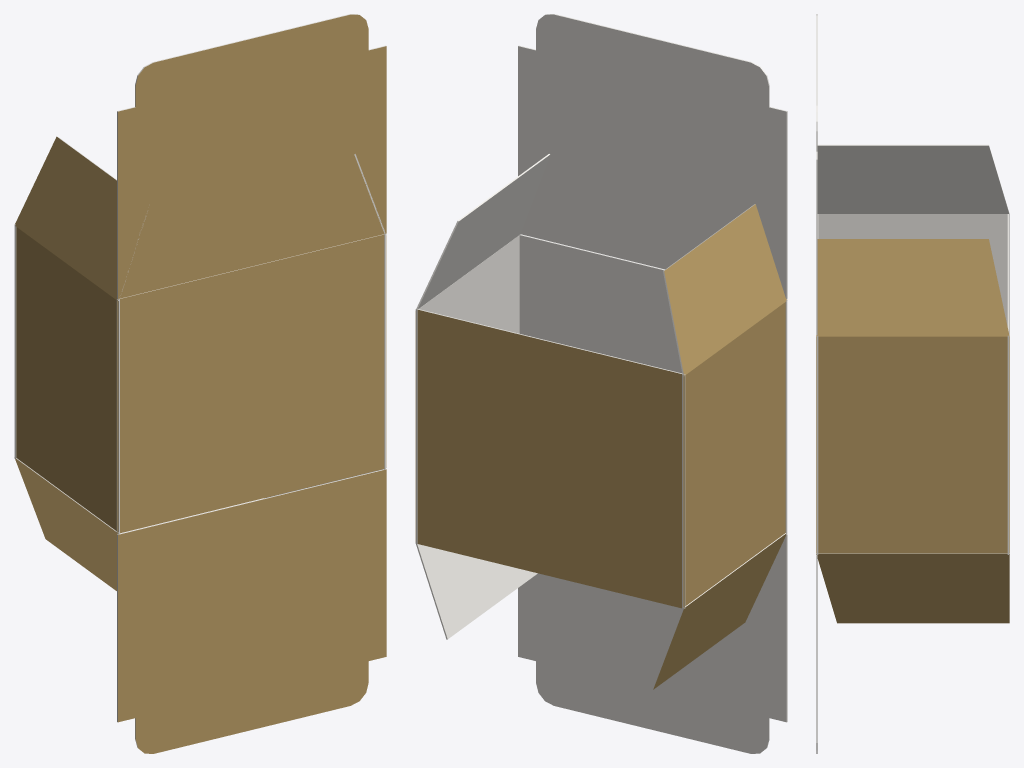
The picture shows the model from 3 angles, left to right: view 1: azimuth 30°, elevation 25°; view 2: azimuth 150°, elevation 25°; view 3: azimuth 270°, elevation 25°; orthographic projection. The views are drawn at different scales.
Parts seen in each view (by area): view 1: Packive_Box_fefco0210; view 2: Packive_Box_fefco0210; view 3: Packive_Box_fefco0210.
Boxes of the visible parts, x1,y1,x2,y2 form: Packive_Box_fefco0210: (14, 14, 386, 753); Packive_Box_fefco0210: (415, 14, 787, 753); Packive_Box_fefco0210: (816, 14, 1009, 753).
Size of the model in its own units: 0.3 by 0.7375 by 0.2.
Materials: 24 (12 with a texture image).
